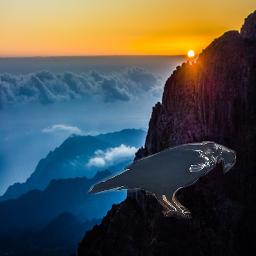Crow: (86, 141, 236, 219)
